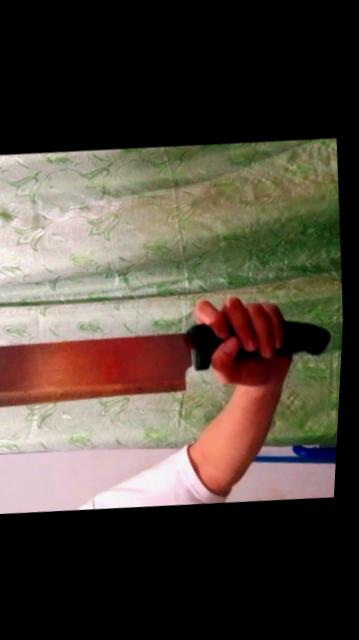long knife: (0, 279, 343, 422)
